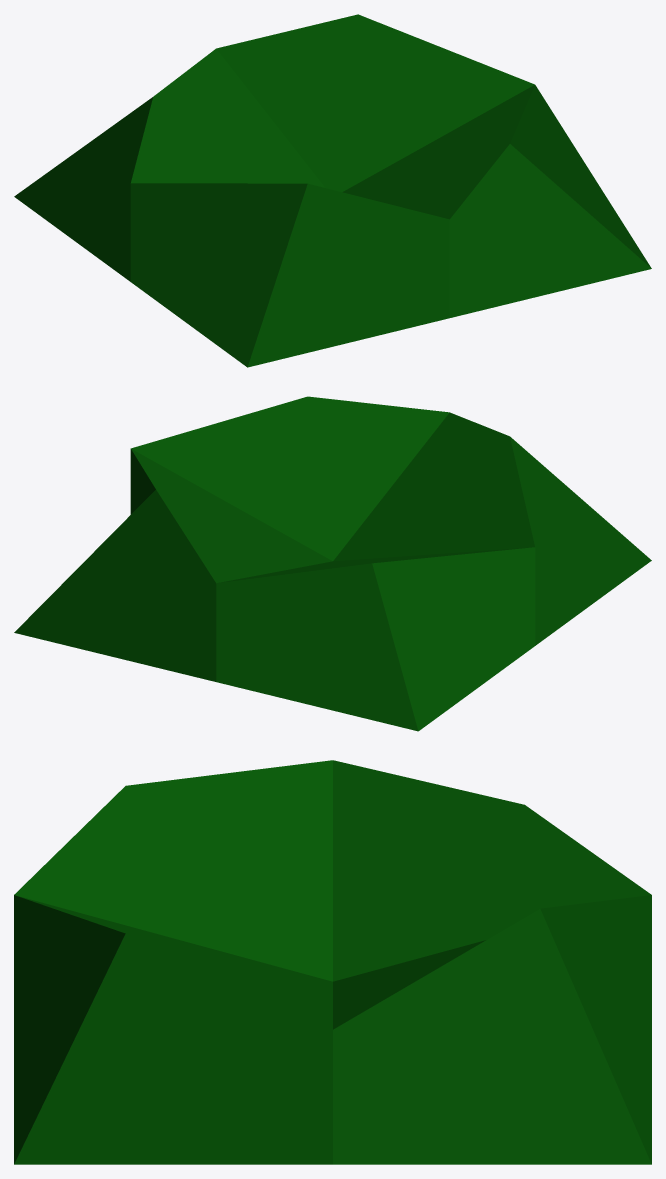
File: Teleport_1_model.fbx
The picture shows the model from 3 angles, top to bottom: view 1: azimuth 30°, elevation 25°; view 2: azimuth 150°, elevation 25°; view 3: azimuth 270°, elevation 25°; orthographic projection. The views are drawn at different scales.
Parts seen in each view (by area): view 1: Cube; view 2: Cube; view 3: Cube.
Part boxes in pixels (x1,y1,x2,y2): Cube: (14, 14, 651, 367); Cube: (14, 396, 651, 731); Cube: (14, 760, 651, 1164).
Size of the model in its own units: 200 by 65.29 by 200.
